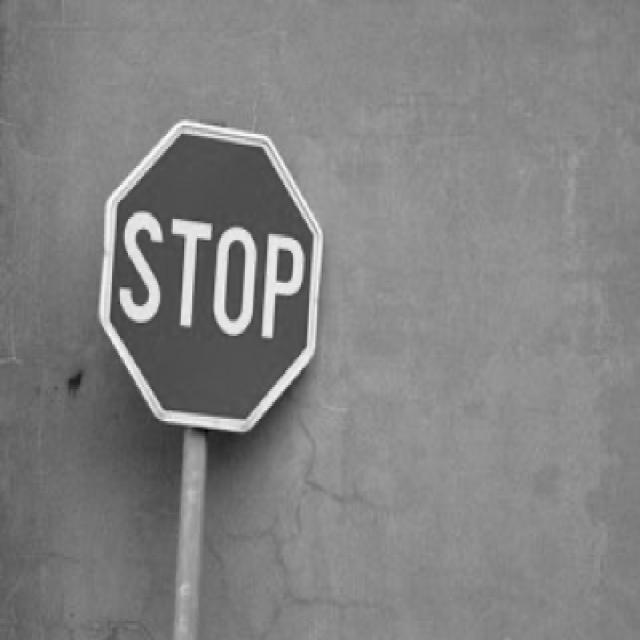Stop-signs: (99, 122, 322, 431)
